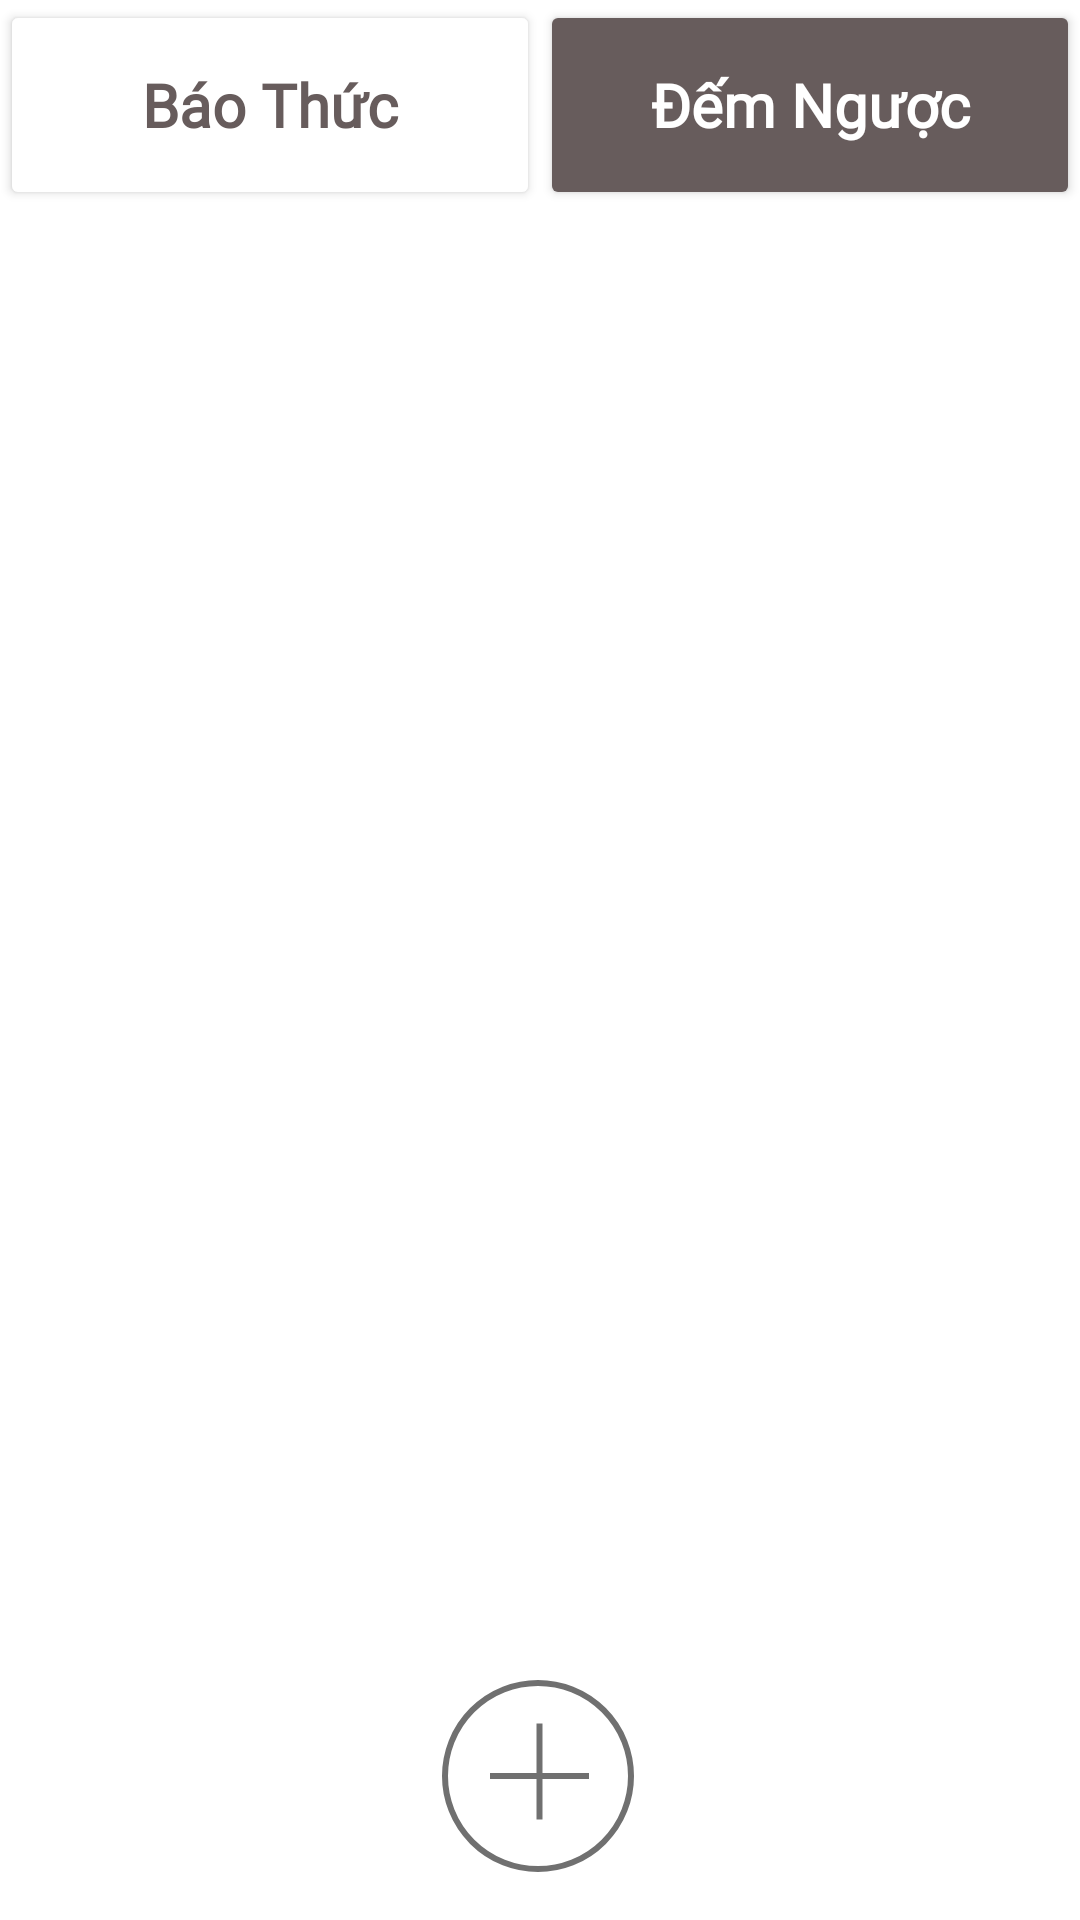

Named icons in this screenshot (1080px x 1920px) and their centers, (x=x, y=y):
add: (x=538, y=1776)
